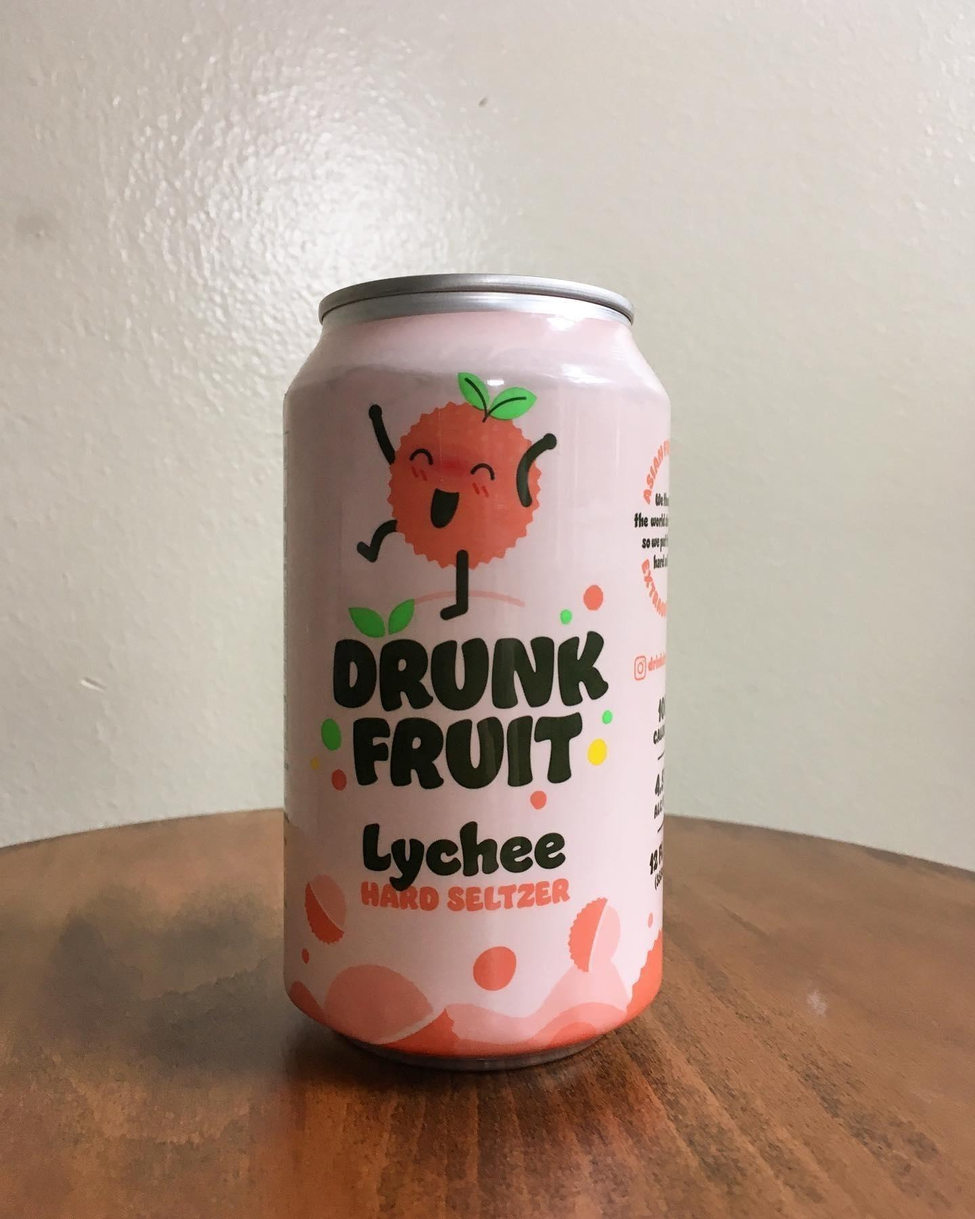tin can: (267, 258, 701, 1090)
